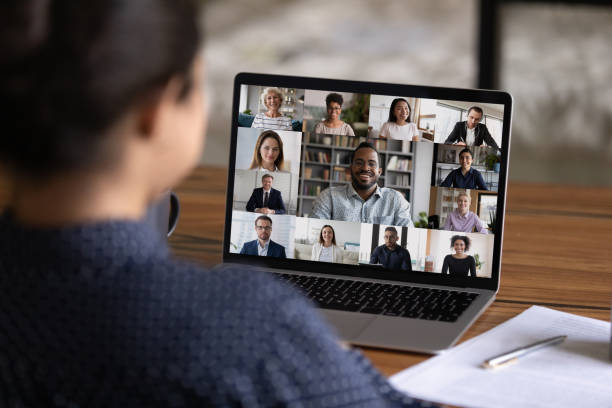without mask: (347, 143, 383, 192), (252, 129, 287, 168), (322, 91, 352, 120), (387, 99, 417, 128), (459, 106, 487, 134), (450, 192, 475, 214), (455, 148, 480, 170), (448, 236, 470, 256), (382, 227, 404, 247), (314, 224, 336, 244), (252, 220, 274, 240)
